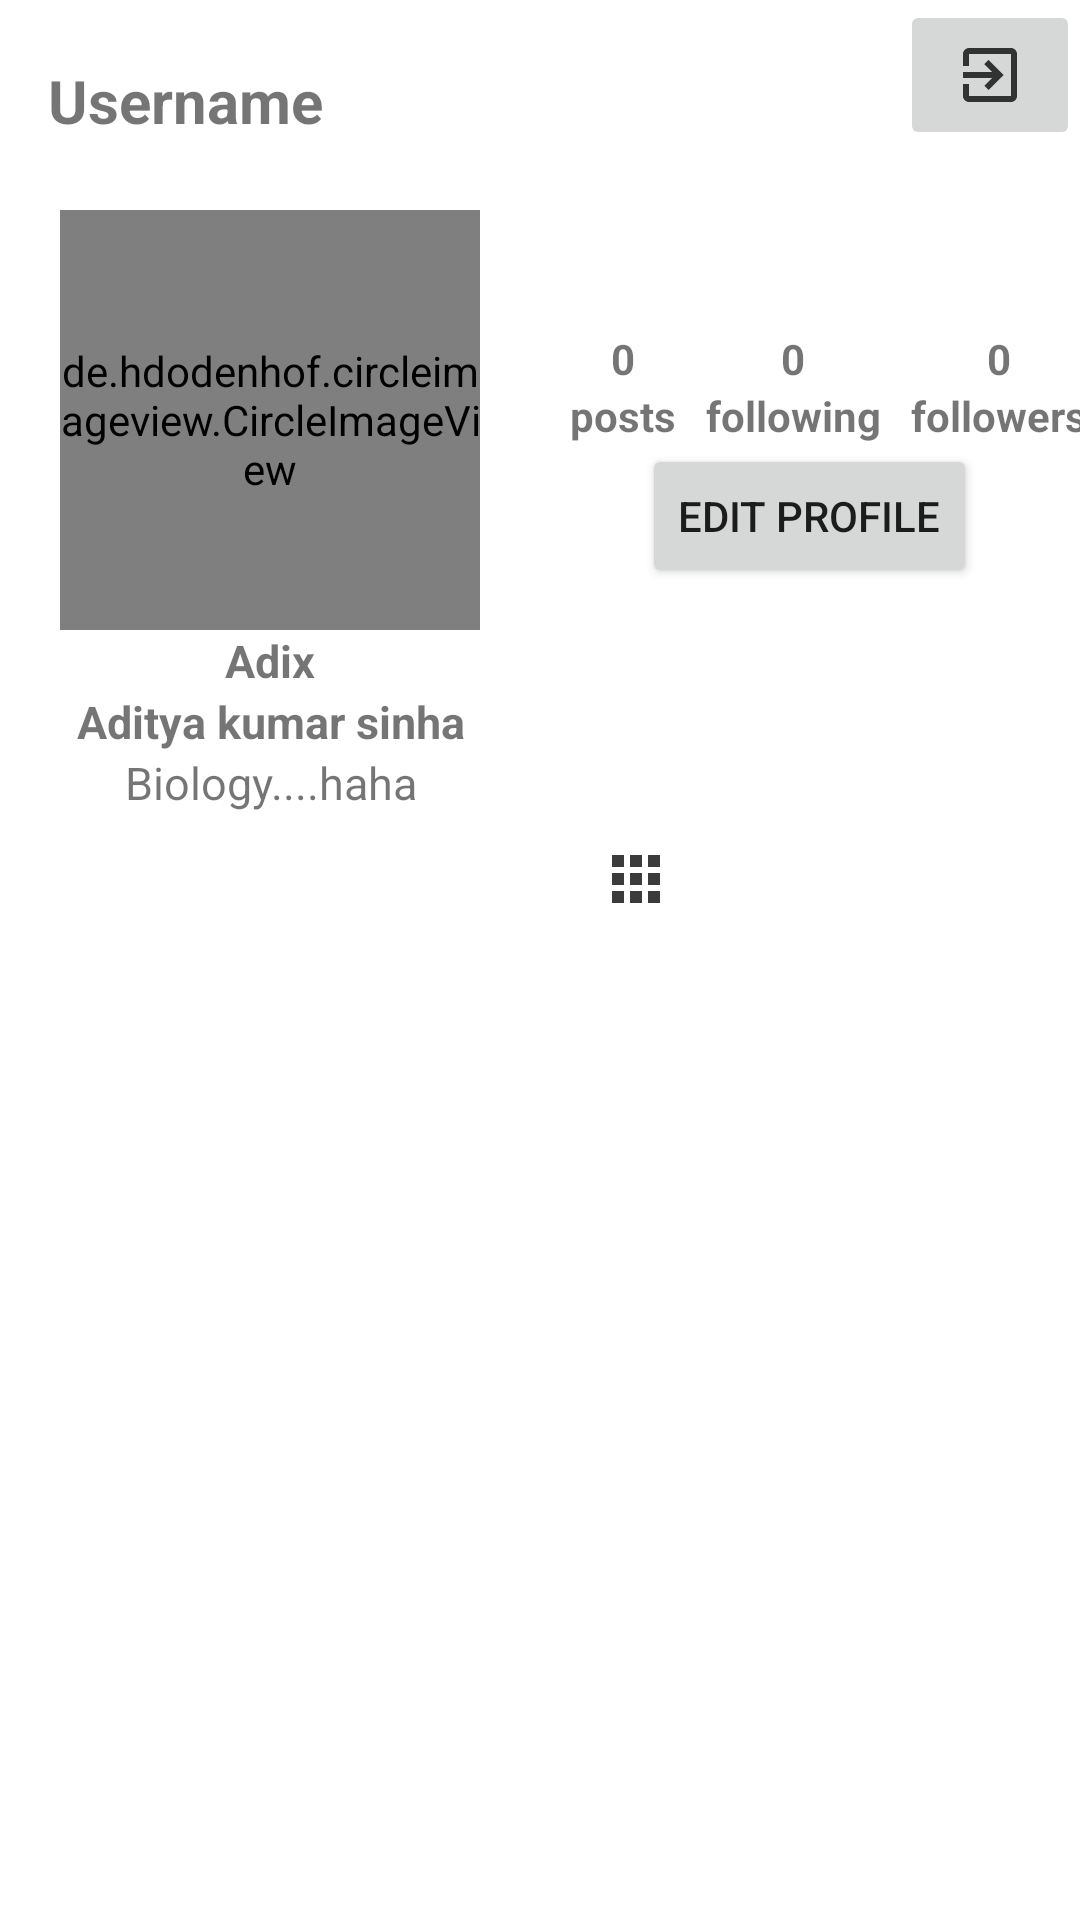

Screen size 1080 × 1920. Icon name, then its center in pixels as point (x, y):
myposts: point (636, 879)
